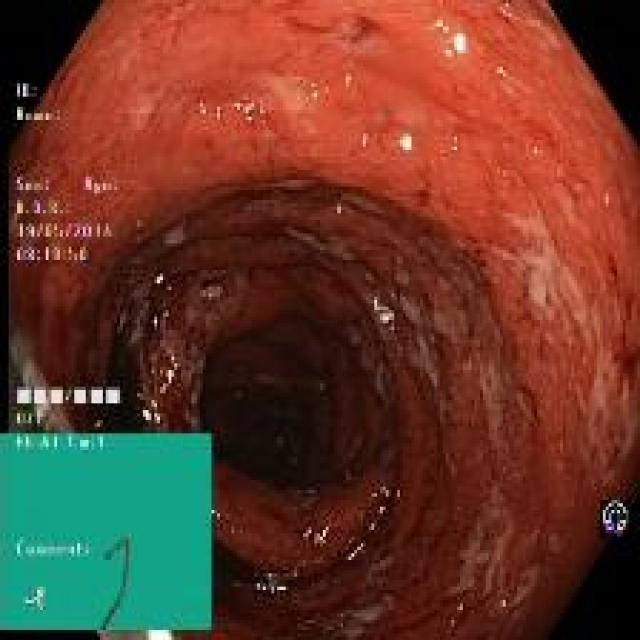ulcerative-colitis-grade-3: (10, 3, 640, 640)
